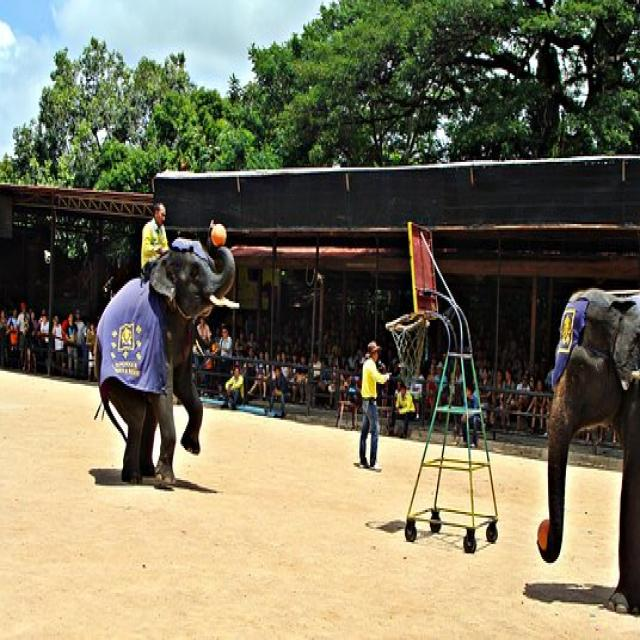Elephant: (56, 209, 267, 540), (541, 240, 640, 640)
